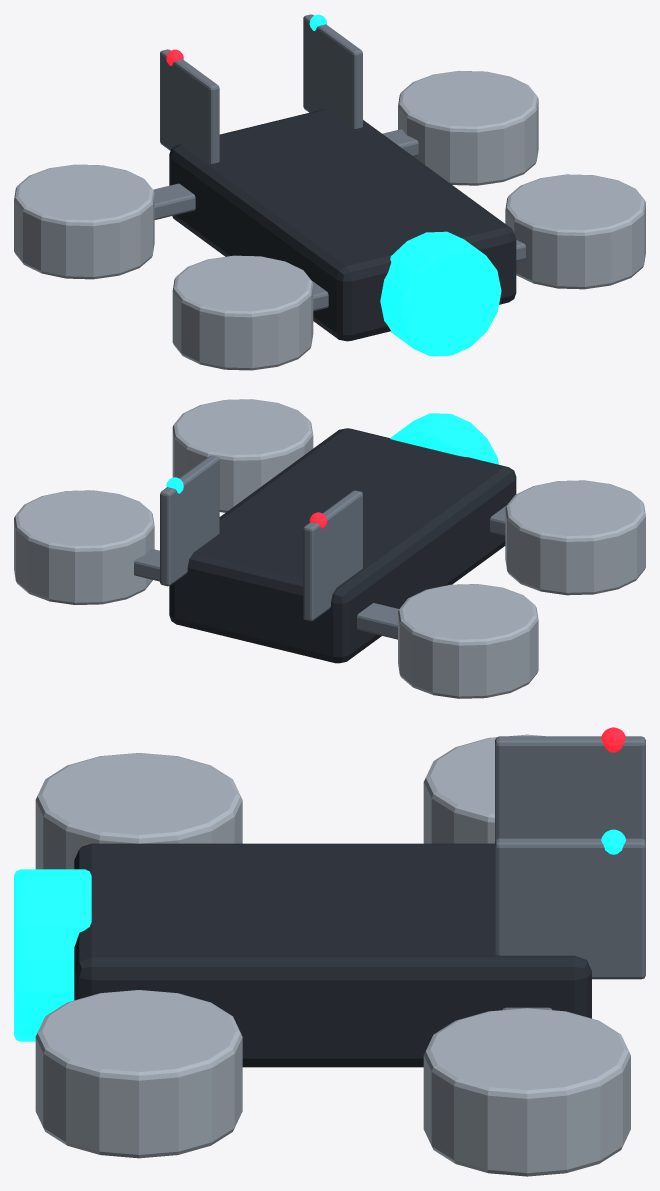
The model's file is patrol_surveillance_drone.glb.
3 views of the same model, one above another, from view 1: azimuth 30°, elevation 25°; view 2: azimuth 150°, elevation 25°; view 3: azimuth 270°, elevation 25° (orthographic). The views are drawn at different scales.
Visible parts, largest first — view 1: Drone_Fuselage, ThrusterRing_0, ThrusterRing_2, ThrusterRing_1, ThrusterRing_3, Sensor_Visor, Fin_-0.28, Fin_0.28, Strut_2, Strut_3; view 2: Drone_Fuselage, ThrusterRing_2, ThrusterRing_0, ThrusterRing_3, ThrusterRing_1, Fin_-0.28, Fin_0.28, Sensor_Visor, Strut_2, Strut_3; view 3: Drone_Fuselage, ThrusterRing_3, ThrusterRing_1, Fin_0.28, ThrusterRing_0, Fin_-0.28, Sensor_Visor, ThrusterRing_2.
Part boxes in pixels (bbox=[...]): Drone_Fuselage: bbox=[169, 109, 516, 341]; ThrusterRing_0: bbox=[172, 255, 313, 370]; ThrusterRing_2: bbox=[14, 164, 154, 279]; ThrusterRing_1: bbox=[505, 174, 645, 289]; ThrusterRing_3: bbox=[398, 70, 538, 185]; Sensor_Visor: bbox=[380, 231, 501, 356]; Fin_-0.28: bbox=[160, 49, 219, 163]; Fin_0.28: bbox=[303, 14, 362, 128]; Strut_2: bbox=[153, 183, 195, 219]; Strut_3: bbox=[382, 129, 418, 156]; Drone_Fuselage: bbox=[169, 428, 516, 663]; ThrusterRing_2: bbox=[398, 584, 538, 698]; ThrusterRing_0: bbox=[505, 480, 645, 595]; ThrusterRing_3: bbox=[14, 490, 154, 604]; ThrusterRing_1: bbox=[172, 399, 313, 512]; Fin_-0.28: bbox=[303, 490, 362, 621]; Fin_0.28: bbox=[160, 455, 219, 586]; Sensor_Visor: bbox=[390, 413, 498, 464]; Strut_2: bbox=[357, 603, 398, 639]; Strut_3: bbox=[134, 548, 159, 581]; Drone_Fuselage: bbox=[74, 843, 591, 1067]; ThrusterRing_3: bbox=[423, 1008, 630, 1176]; ThrusterRing_1: bbox=[35, 990, 242, 1158]; Fin_0.28: bbox=[495, 838, 645, 979]; ThrusterRing_0: bbox=[35, 753, 242, 869]; Fin_-0.28: bbox=[495, 736, 645, 841]; Sensor_Visor: bbox=[14, 869, 91, 1041]; ThrusterRing_2: bbox=[423, 734, 544, 843].
Bounding box in the file's own units: 1.98 × 0.65 × 1.46.
